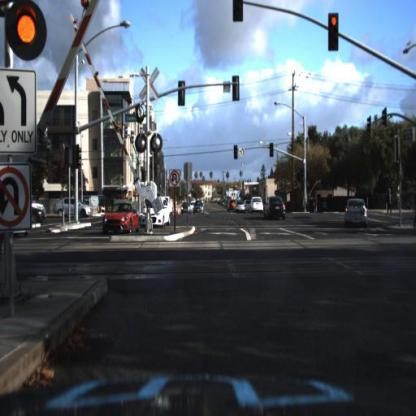car: (343, 190, 374, 237), (101, 202, 141, 237), (52, 197, 95, 224), (263, 190, 291, 226), (144, 198, 174, 229), (248, 192, 269, 219), (24, 207, 47, 226), (251, 194, 269, 215), (235, 196, 251, 218), (30, 212, 45, 234), (179, 198, 194, 215), (192, 199, 206, 217), (31, 202, 49, 215), (225, 197, 237, 215), (234, 200, 247, 215), (179, 201, 191, 216), (227, 197, 235, 215)
pedestrian: (385, 184, 395, 224), (387, 185, 397, 218), (312, 189, 322, 217)
trafficLight: (328, 13, 339, 52), (232, 138, 243, 164), (269, 141, 276, 159)
trafficLight-Green: (299, 164, 307, 184)
trafficLight-Red: (1, 1, 70, 67), (324, 9, 345, 58)
